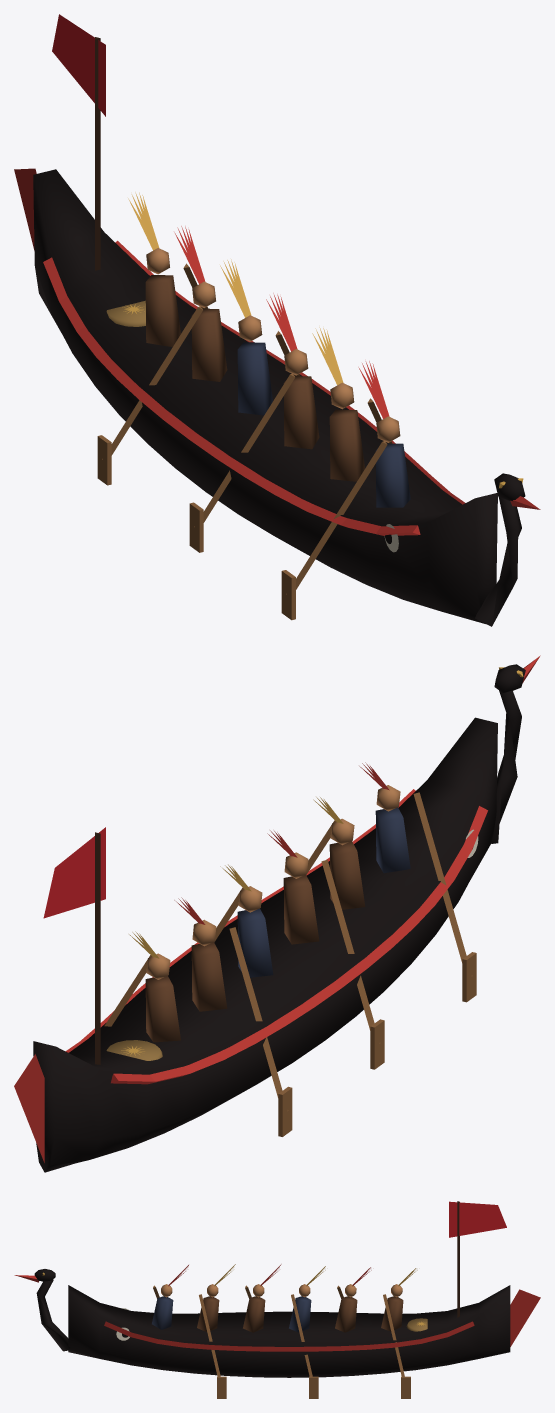
File: thuyen_ngo.lite.glb
3 views of the same model, one above another, from view 1: azimuth 30°, elevation 25°; view 2: azimuth 150°, elevation 25°; view 3: azimuth 270°, elevation 25° (orthographic). The views are drawn at different scales.
Visible parts, largest first — view 1: than, vien-1, co.001, nguoi3, nguoi1, nguoi5, nguoi2, nguoi4, co, nguoi0, can_co, cheo0 (+5 smaller); view 2: than, vien-1, co.001, nguoi2, nguoi4, co, nguoi5, nguoi0, nguoi3, nguoi1, duoi, can_co (+9 smaller); view 3: than, vien1, co.001, duoi, co, nguoi2, nguoi4, nguoi0, nguoi3, nguoi1, nguoi5, can_co (+3 smaller).
Boxes of the visible parts, <box> form: than: <box>33,169,497,623</box>; vien-1: <box>43,257,420,535</box>; co.001: <box>52,14,105,116</box>; nguoi3: <box>237,342,272,415</box>; nguoi1: <box>329,409,364,481</box>; nguoi5: <box>145,275,180,346</box>; nguoi2: <box>283,376,319,449</box>; nguoi4: <box>191,308,227,381</box>; co: <box>475,497,521,626</box>; nguoi0: <box>375,443,410,507</box>; can_co: <box>95,37,100,270</box>; cheo0: <box>286,441,387,594</box>; than: <box>33,717,497,1172</box>; vien-1: <box>111,806,487,1084</box>; co.001: <box>43,827,105,918</box>; nguoi2: <box>283,875,319,944</box>; nguoi4: <box>191,942,227,1011</box>; co: <box>491,690,521,843</box>; nguoi5: <box>145,976,180,1042</box>; nguoi0: <box>375,807,410,873</box>; nguoi3: <box>237,908,273,977</box>; nguoi1: <box>329,841,365,909</box>; duoi: <box>14,1054,44,1162</box>; can_co: <box>95,832,100,1064</box>; than: <box>68,1285,510,1377</box>; vien1: <box>104,1321,474,1351</box>; co.001: <box>449,1201,506,1237</box>; duoi: <box>510,1289,540,1346</box>; co: <box>36,1279,70,1351</box>; nguoi2: <box>243,1296,265,1332</box>; nguoi4: <box>335,1296,357,1332</box>; nguoi0: <box>152,1296,173,1329</box>; nguoi3: <box>289,1296,311,1332</box>; nguoi1: <box>197,1296,219,1331</box>; nguoi5: <box>381,1296,403,1331</box>; can_co: <box>457,1201,459,1317</box>.
Bounding box in the file's own units: 1.75 × 3.14 × 8.59.
